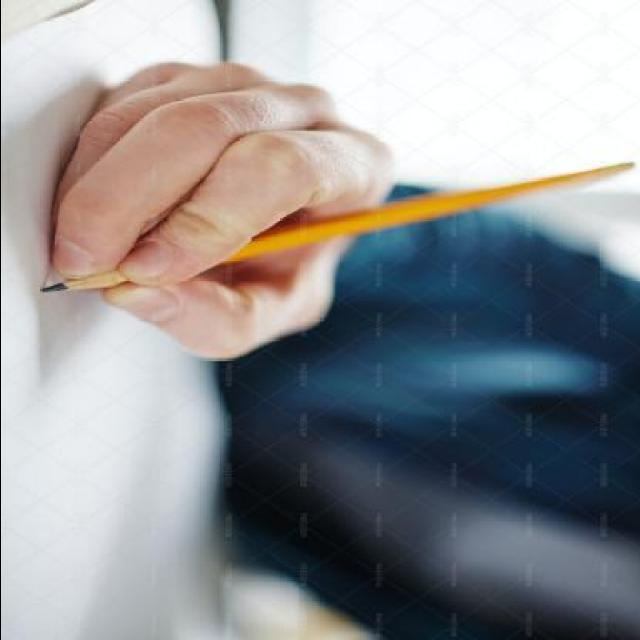pencil: (40, 266, 126, 309)
